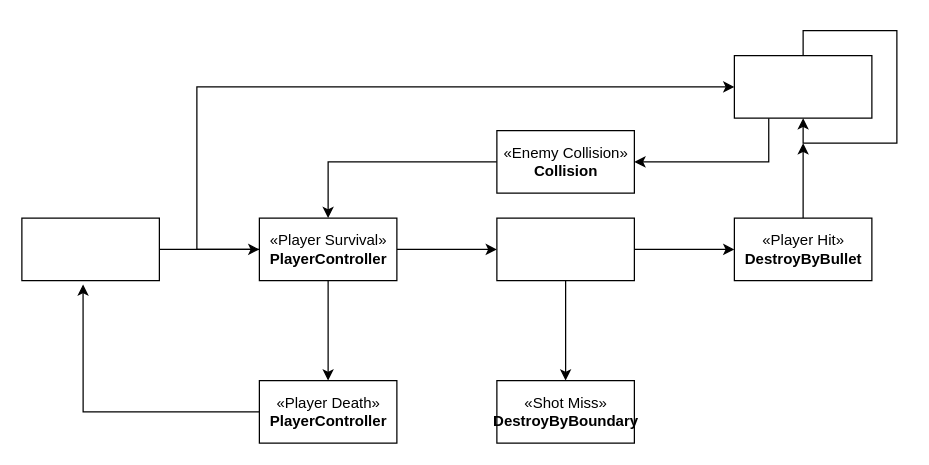
Image size: 929x465. Some labels were removed from this diagram. The shapes that lost their labels are listed below. From the top down, each one's centre as x and y in pixels, then its label:
At (802,86): "«Enemy Spawn» WaveBehavior".
At (90,249): "«Start Game» First Level".
At (565,249): "«Player Shoot» BulletSpawn".
